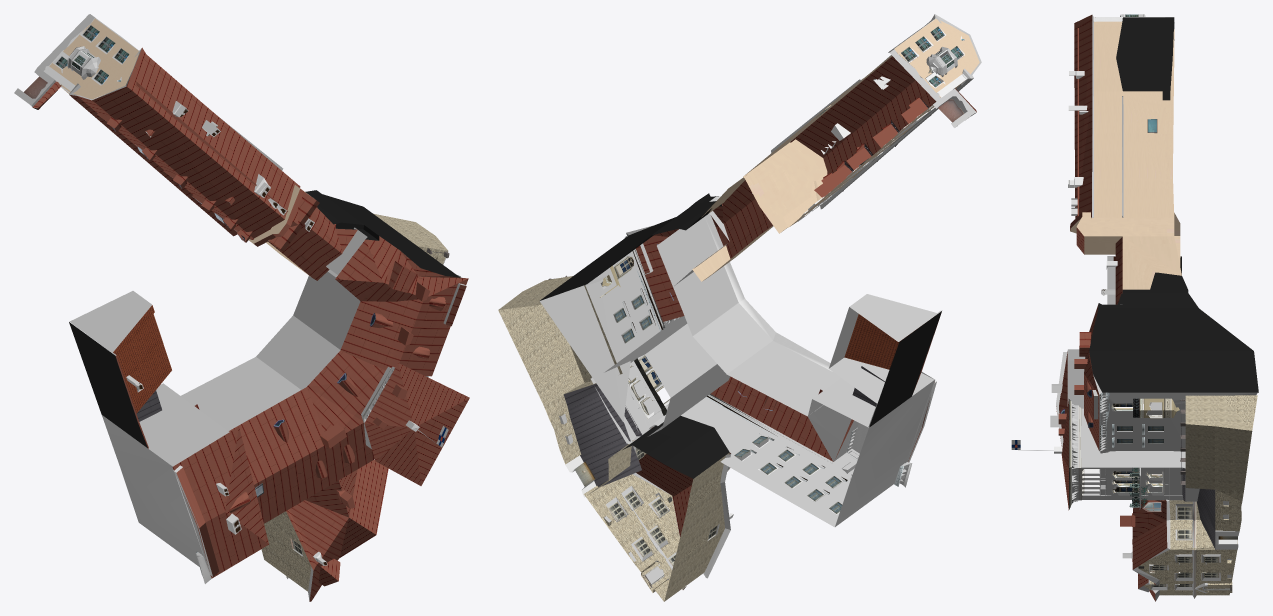
File: Kohtu_4-origo.obj
The picture shows the model from 3 angles, left to right: view 1: azimuth 30°, elevation 25°; view 2: azimuth 150°, elevation 25°; view 3: azimuth 270°, elevation 25°; orthographic projection. The views are drawn at different scales.
Parts seen in each view (by area): view 1: Kohtu_4_1; view 2: Kohtu_4_1; view 3: Kohtu_4_1.
Boxes of the visible parts, box(x1,y1,x2,y2) form: Kohtu_4_1: box(14, 14, 469, 601); Kohtu_4_1: box(498, 14, 981, 601); Kohtu_4_1: box(1011, 14, 1258, 601).
Bounding box in the file's own units: 58.5 × 78.5 × 34.97.
